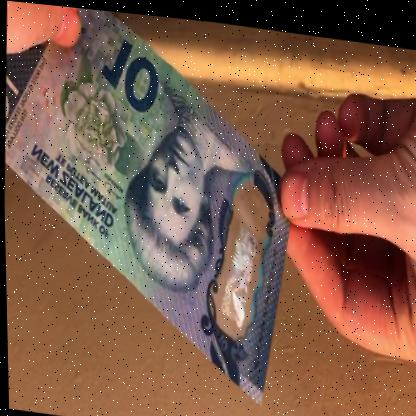10B: (215, 216, 264, 331)
